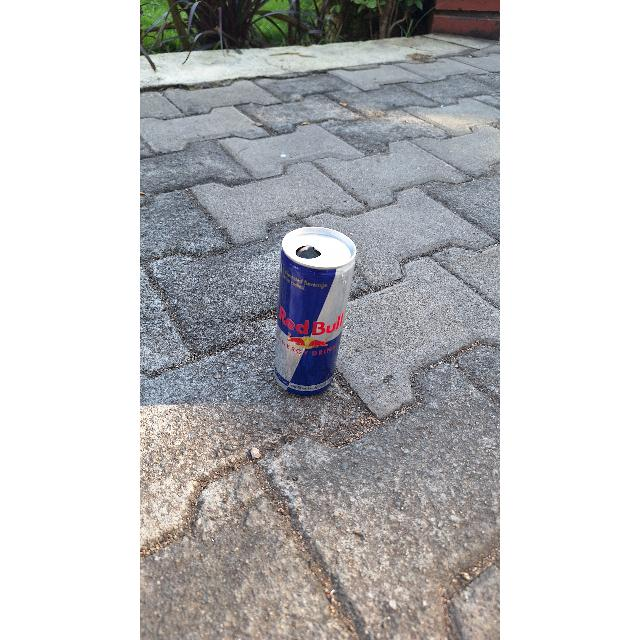Redbull: (278, 228, 350, 388)
